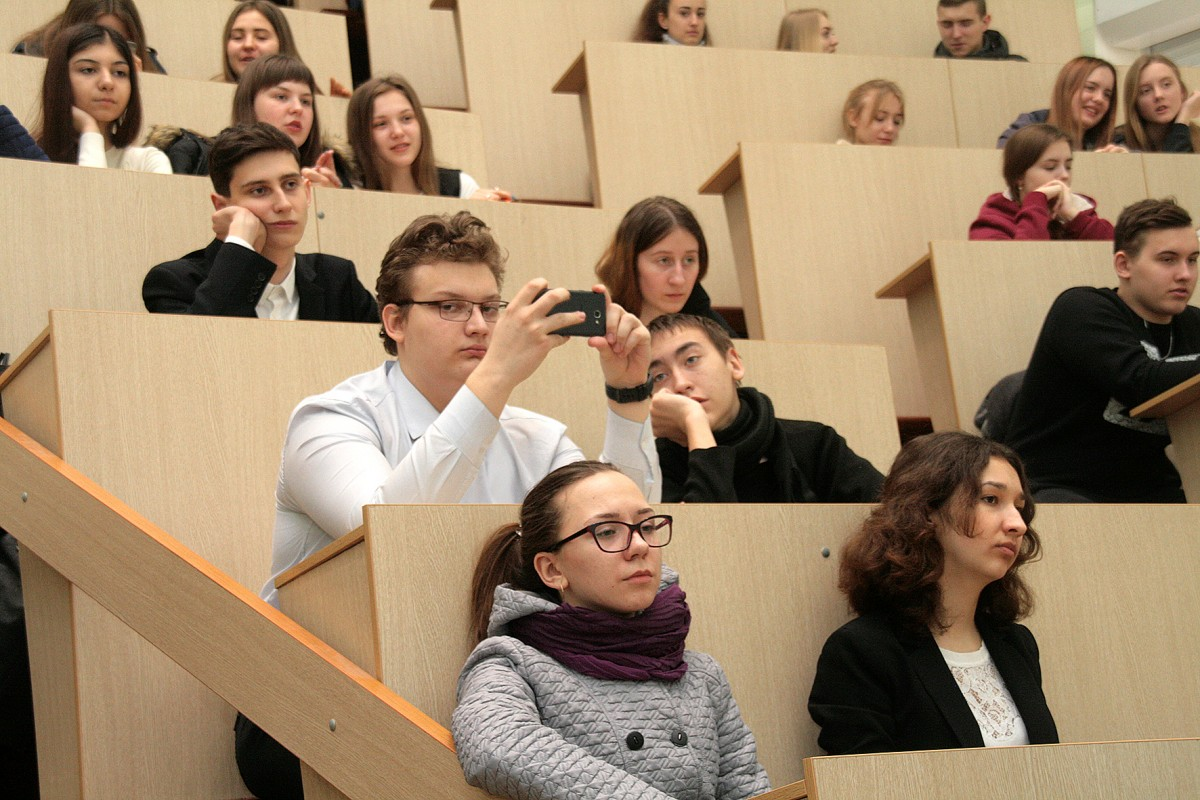students: (236, 216, 661, 796), (452, 461, 767, 798), (811, 431, 1063, 759), (992, 197, 1200, 490), (643, 307, 880, 497), (145, 124, 380, 314), (342, 72, 512, 200), (27, 20, 166, 163), (967, 123, 1115, 242), (219, 54, 348, 185), (596, 193, 715, 323), (194, 1, 347, 94), (994, 55, 1121, 147), (21, 1, 169, 74), (1099, 49, 1200, 152), (833, 77, 914, 144), (932, 4, 1012, 57), (639, 1, 725, 42), (775, 6, 843, 51)
